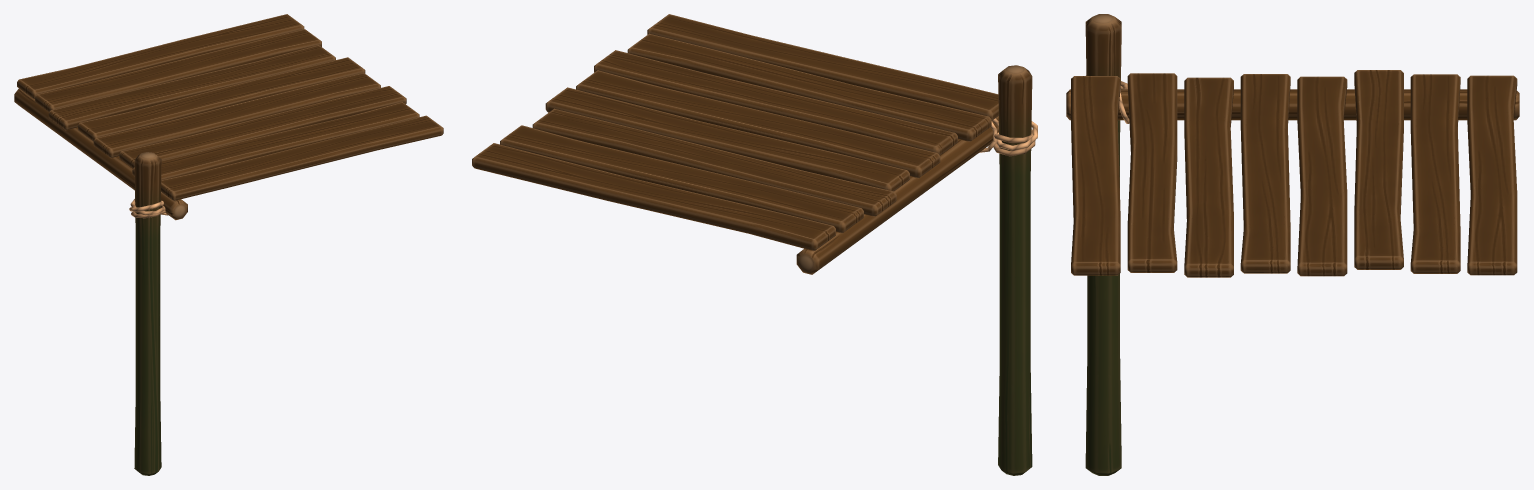
Rendered from Corner_left.2.fbx.
3 renders of one model, left to right at view 1: azimuth 30°, elevation 25°; view 2: azimuth 150°, elevation 25°; view 3: azimuth 270°, elevation 25°, orthographic. The views are drawn at different scales.
Visible parts, largest first — view 1: Corner_left.2; view 2: Corner_left.2; view 3: Corner_left.2.
Part boxes in pixels (<box>): Corner_left.2: <box>14,14,443,475</box>; Corner_left.2: <box>472,14,1037,475</box>; Corner_left.2: <box>1066,14,1519,475</box>.
Size of the model in its own units: 222 by 220 by 200.
